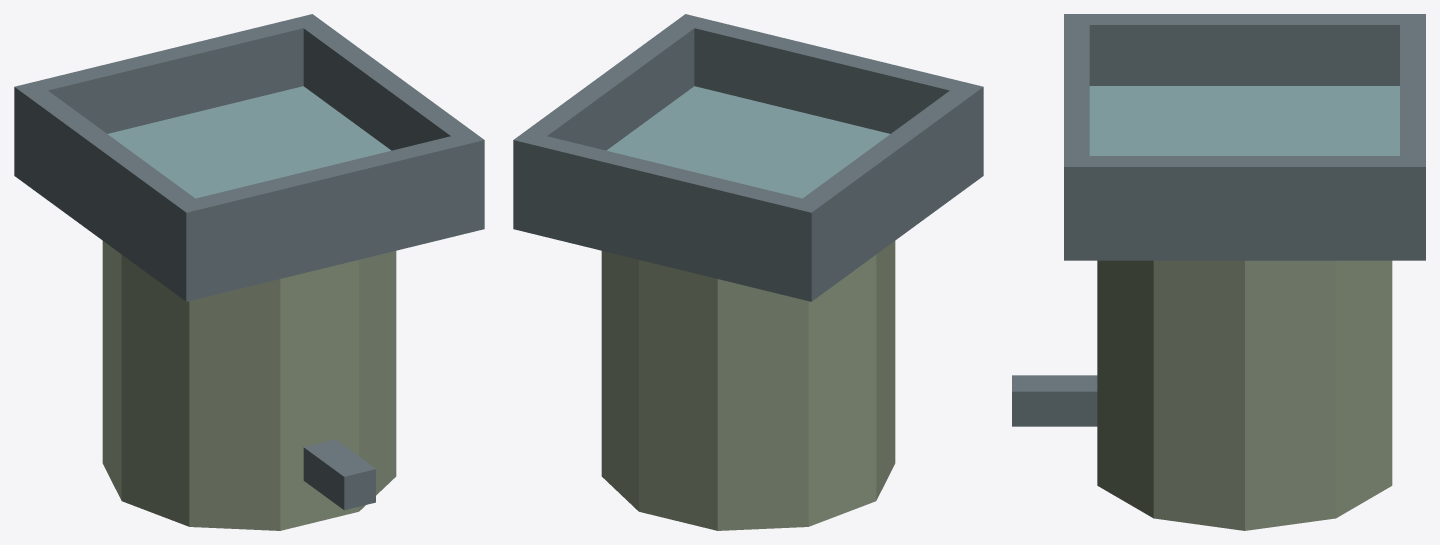
File: zombie-quarantine-streets-rainwater-collector-4a19c495__19346.glb
3 views of the same model, side by side, from view 1: azimuth 30°, elevation 25°; view 2: azimuth 150°, elevation 25°; view 3: azimuth 270°, elevation 25° (orthographic). The views are drawn at different scales.
Visible parts, largest first — view 1: rainwater-collector; view 2: rainwater-collector; view 3: rainwater-collector.
Part boxes in pixels (<box>): rainwater-collector: <box>14,14,484,530</box>; rainwater-collector: <box>513,14,983,530</box>; rainwater-collector: <box>1012,14,1425,530</box>.
Size of the model in its own units: 1.4 by 1.6 by 1.6.
